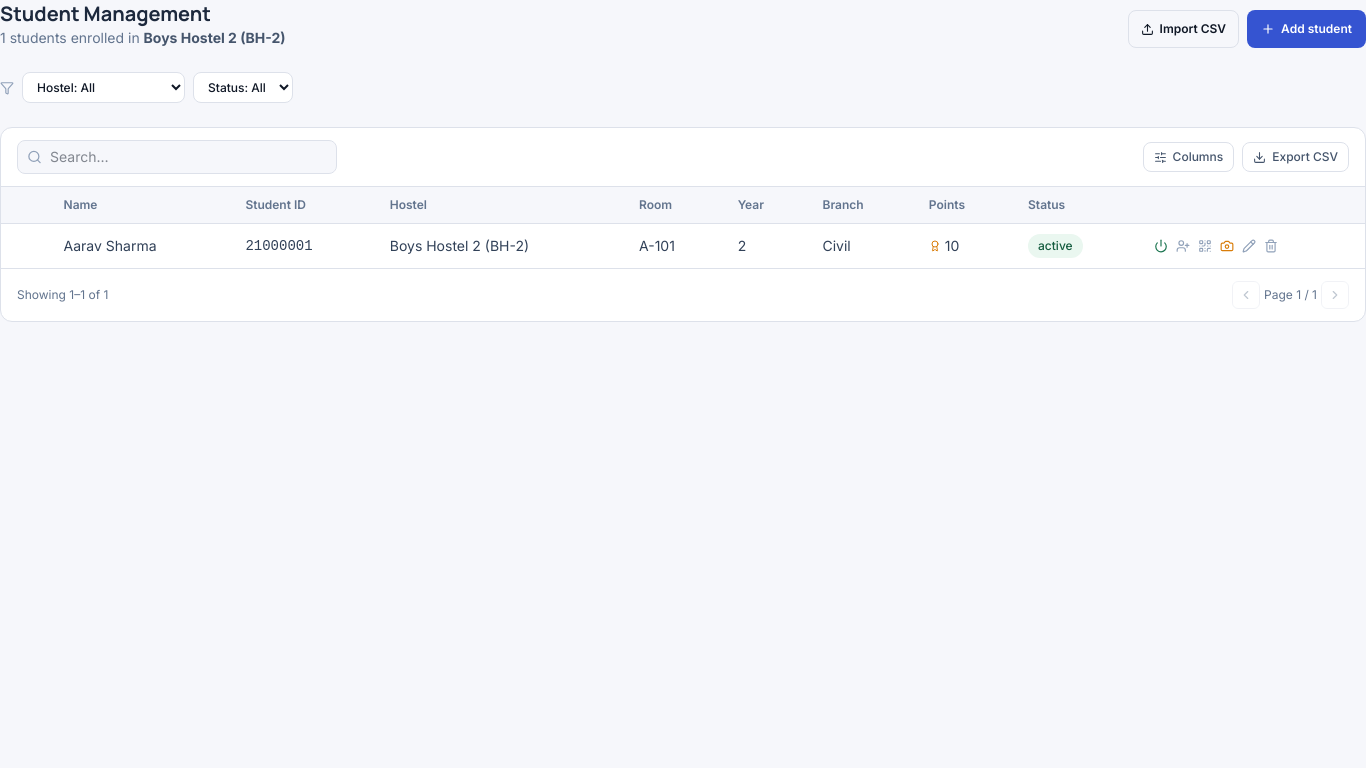
Test: Students — parent/guardian access shows the real password › a new parent account shows the server-generated one-time password, never "demo1234"
Expected: the text "Aarav Sharma" is shown, [48,224,229,268]
Click the button titled "generate parent/guardian access" at (1183, 246), box [1176,239,1190,253]
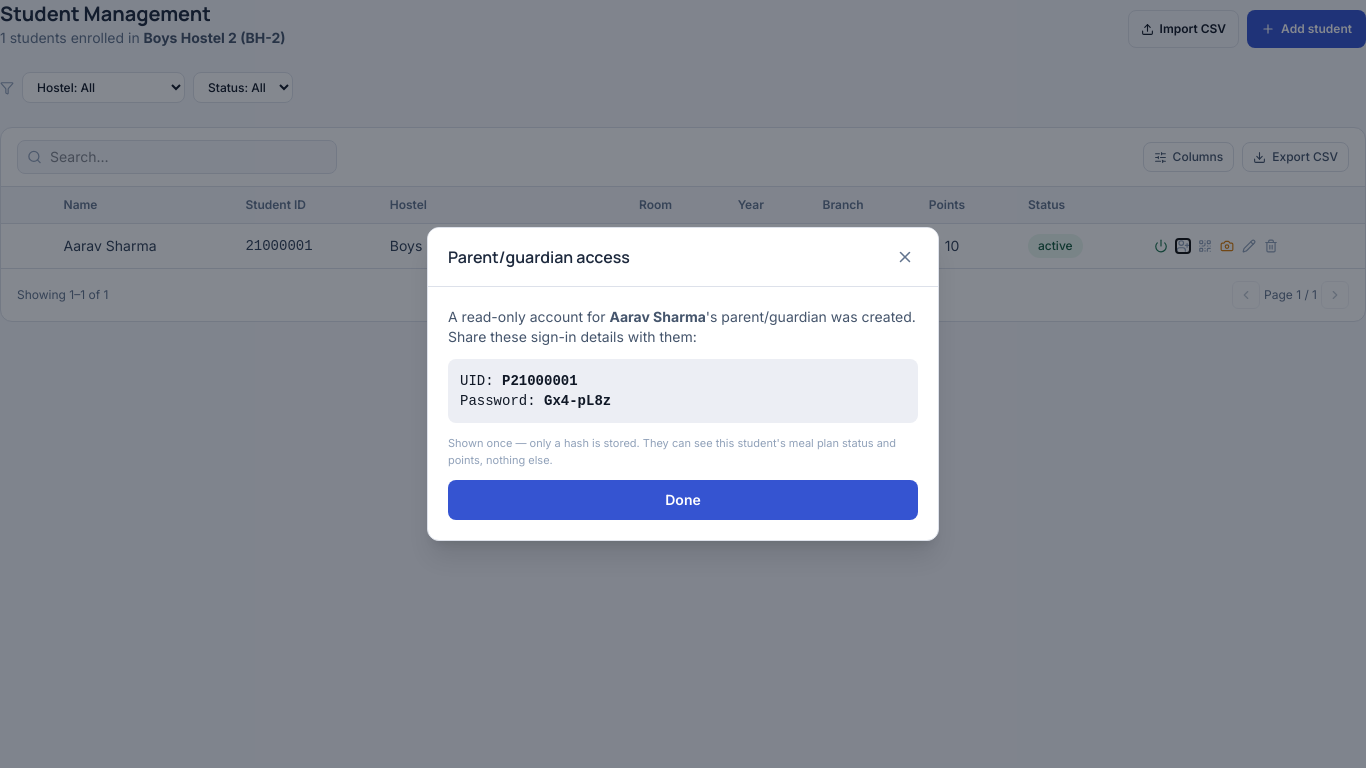
Expected: the element with test id "parent-credentials" shows "P21000001", [502,373,578,389]
Expected: the element with test id "parent-credentials" shows "Gx4-pL8z", [544,393,611,409]
